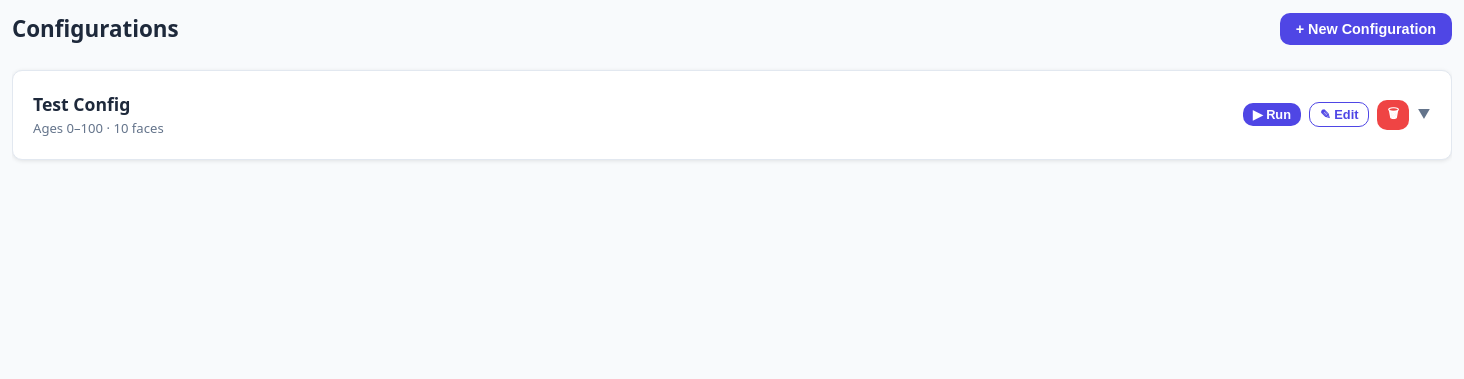
Scenario: ConfigList expand/collapse › shows resolutions in detail panel
This screenshot has width=1464, height=379.
Click the text "Test Config".
click(82, 104)  # box [33, 92, 130, 116]
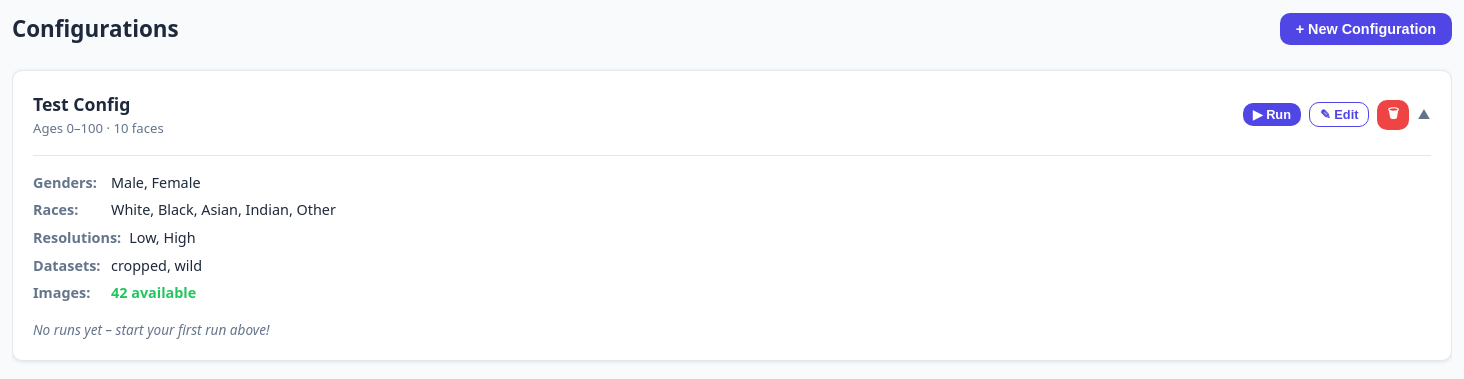
Now the text "Resolutions:" is shown, box [33, 227, 121, 248]
Now the text "Low, High" is shown, box [129, 227, 196, 248]
